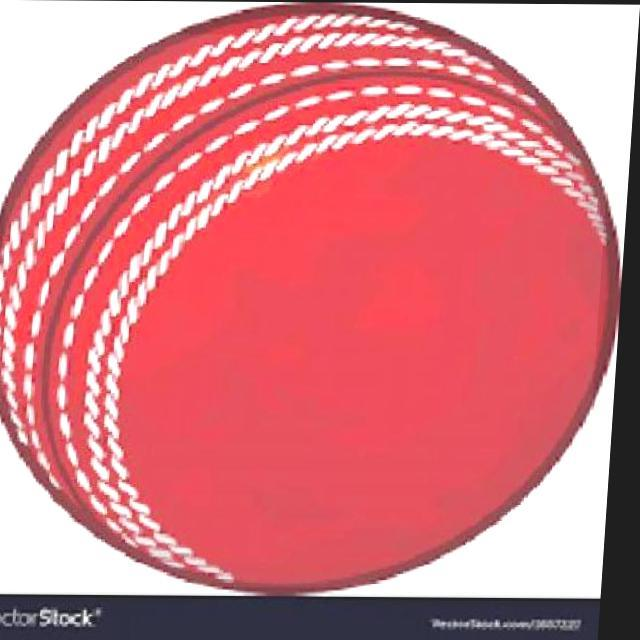-: (0, 34, 617, 588)
